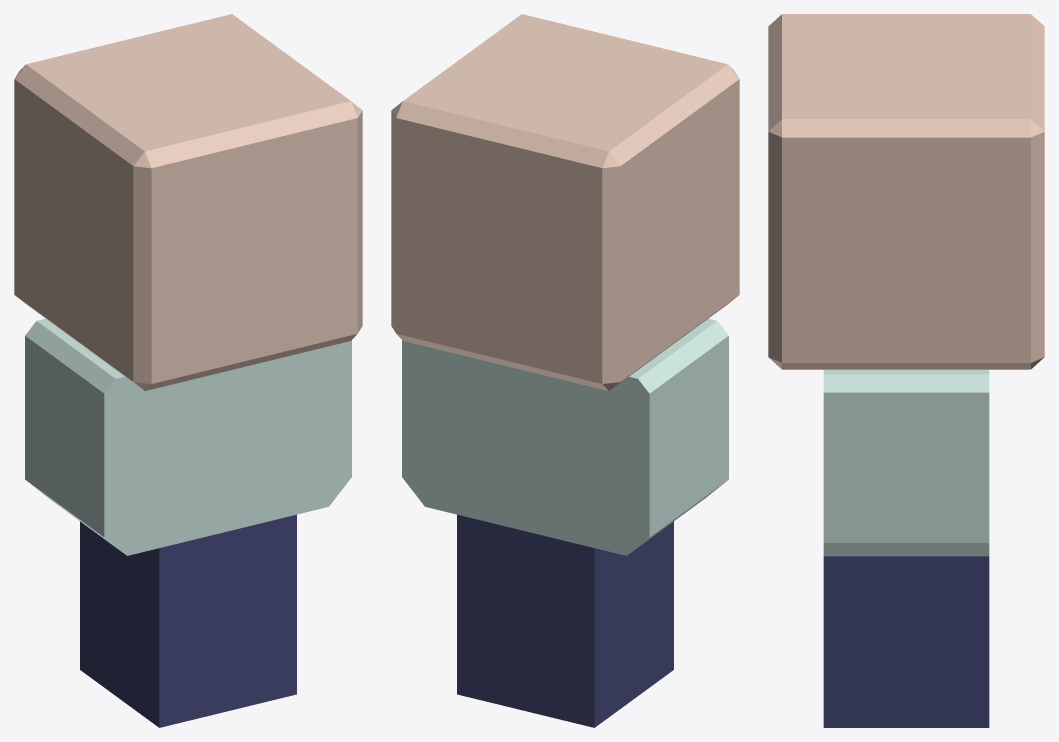
Rendered from NPC_Male01.fbx.
3 views of the same model, side by side, from view 1: azimuth 30°, elevation 25°; view 2: azimuth 150°, elevation 25°; view 3: azimuth 270°, elevation 25° (orthographic). The views are drawn at different scales.
Parts seen in each view (by area): view 1: NPC_Male01; view 2: NPC_Male01; view 3: NPC_Male01.
Part boxes in pixels (left/top/right/bottom): NPC_Male01: left=14, top=14, right=362, bottom=727; NPC_Male01: left=391, top=14, right=739, bottom=727; NPC_Male01: left=768, top=14, right=1044, bottom=727.
Bounding box in the file's own units: 25 × 10.8 × 10.
